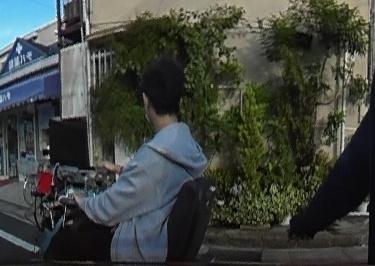person: (57, 50, 207, 266)
